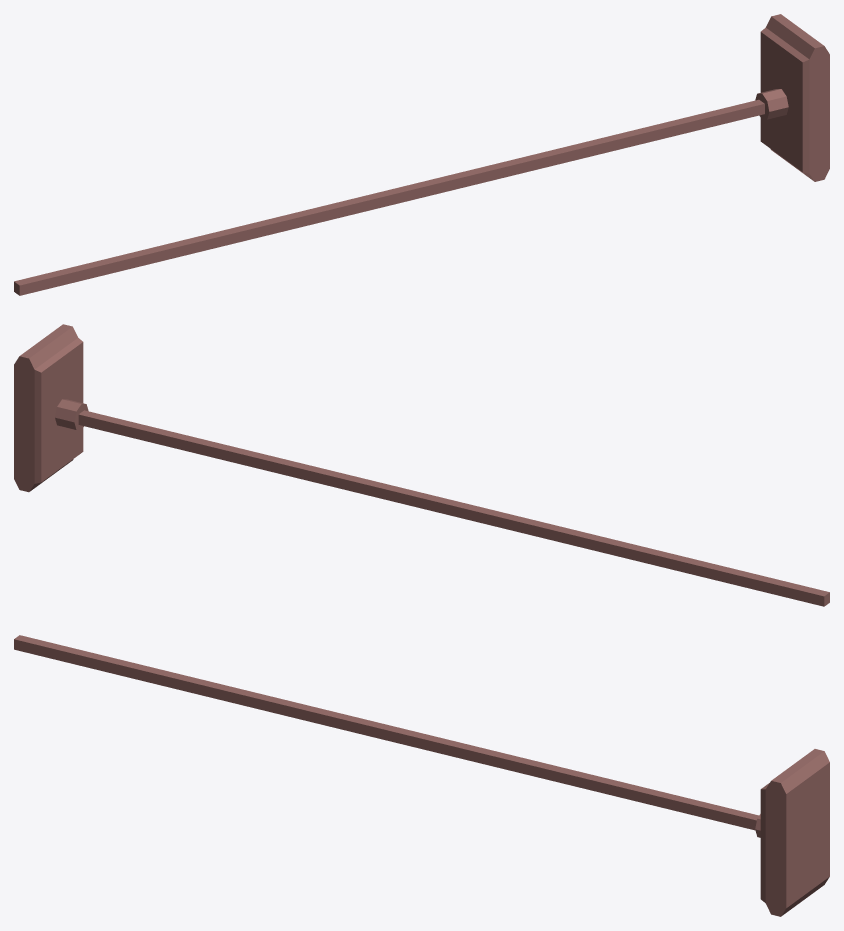
The model's file is squash-wall-servo-1.fbx.
The picture shows the model from 3 angles, top to bottom: view 1: azimuth 30°, elevation 25°; view 2: azimuth 150°, elevation 25°; view 3: azimuth 330°, elevation 25°; orthographic projection.
Visible parts, largest first — view 1: squash-wall-servo-1; view 2: squash-wall-servo-1; view 3: squash-wall-servo-1.
Boxes of the visible parts, bbox=[...] form: squash-wall-servo-1: bbox=[14, 14, 829, 295]; squash-wall-servo-1: bbox=[14, 324, 829, 606]; squash-wall-servo-1: bbox=[14, 635, 829, 916].
Bounding box in the file's own units: 2090 × 338 × 200.
